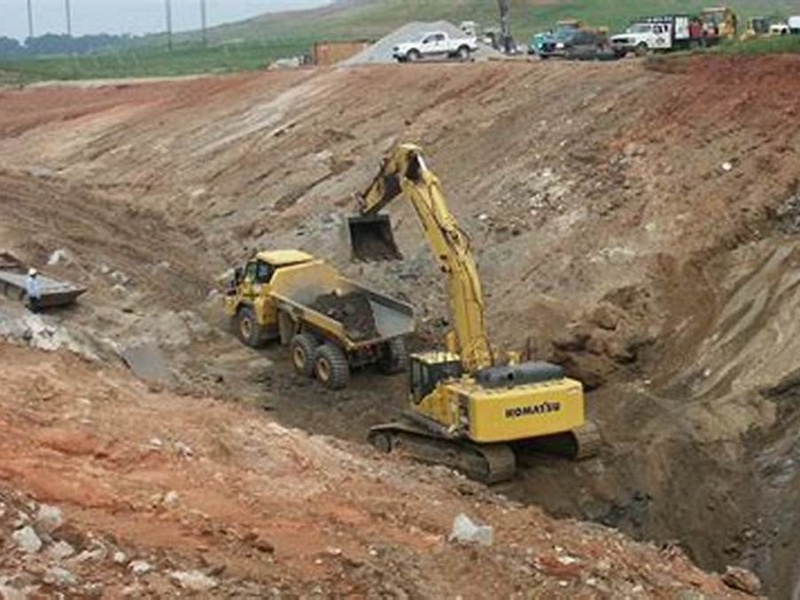excavator: (334, 143, 602, 488)
vehicle: (222, 248, 413, 386), (607, 14, 713, 63), (390, 31, 480, 66), (532, 27, 603, 64)
